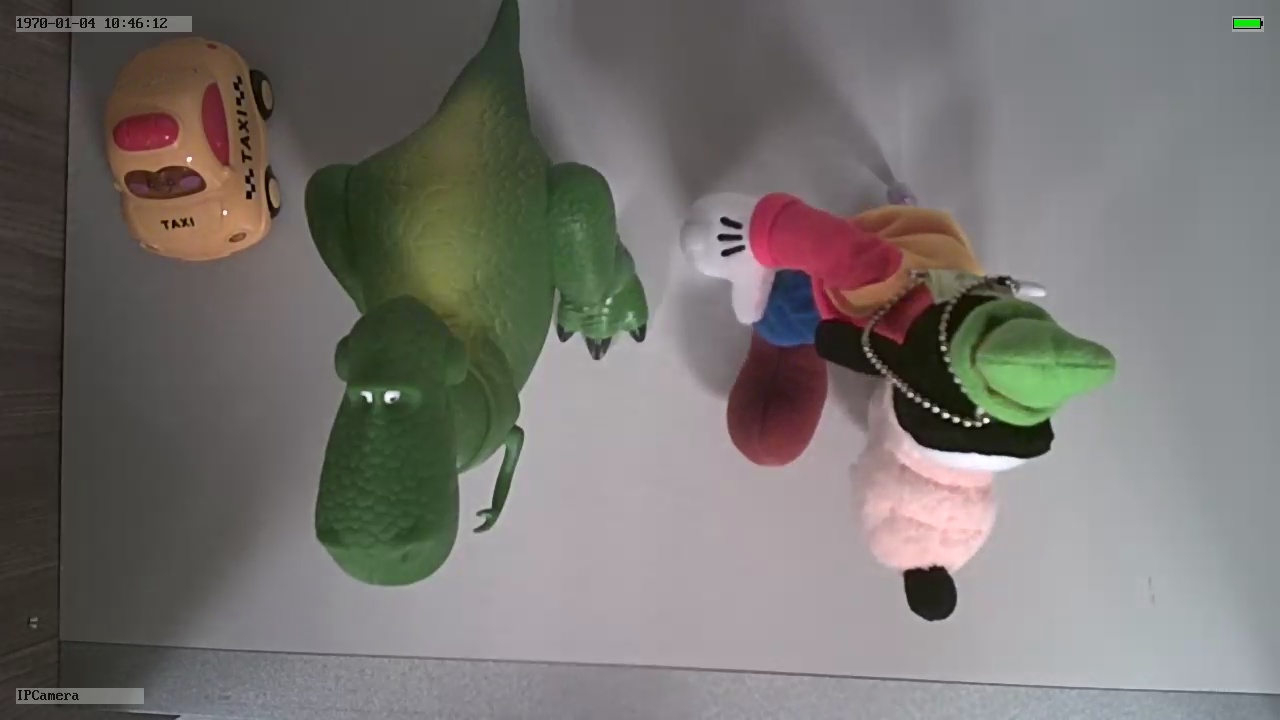car: (101, 43, 290, 264)
goofy: (676, 182, 1119, 627)
rex: (305, 69, 650, 586)
